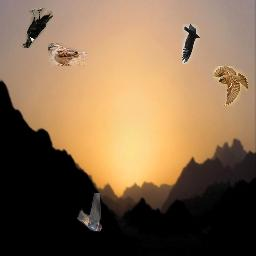Crow: (22, 8, 53, 48), (182, 24, 200, 64)
Sparrow: (213, 66, 248, 106), (48, 43, 87, 66)
Swallow: (77, 193, 102, 233)
